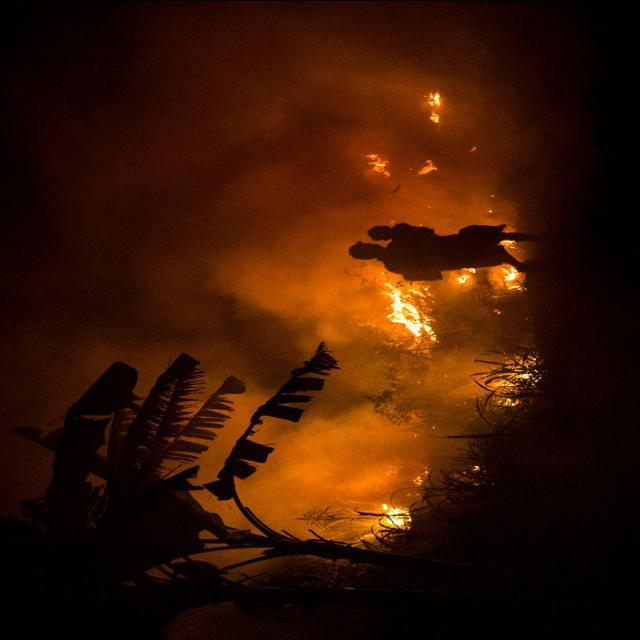Fire: (353, 85, 530, 337), (366, 464, 424, 536)
